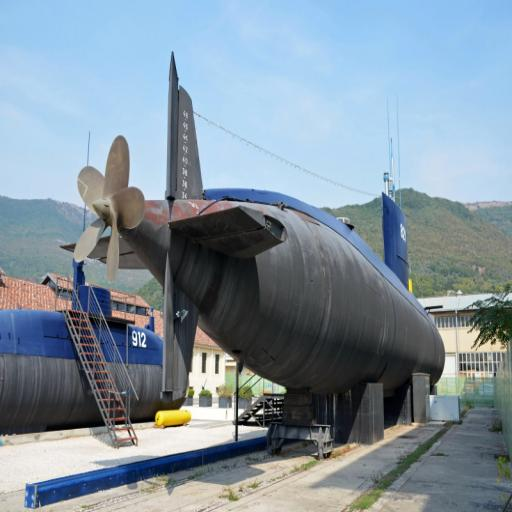submarine: (62, 50, 446, 441), (2, 252, 186, 434)
